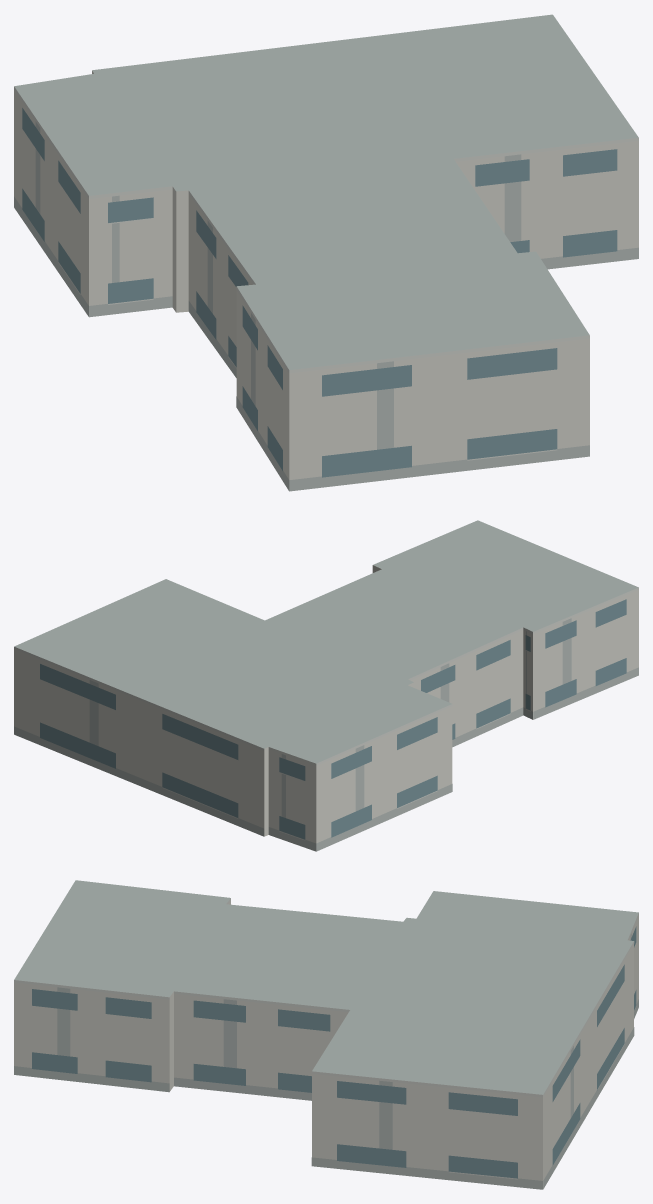
The model's file is survey-upis-32740968.glb.
3 views of the same model, one above another, from view 1: azimuth 30°, elevation 25°; view 2: azimuth 150°, elevation 25°; view 3: azimuth 270°, elevation 25° (orthographic). The views are drawn at different scales.
Visible parts, largest first — view 1: survey-upis-32740968.tmp; view 2: survey-upis-32740968.tmp; view 3: survey-upis-32740968.tmp.
Boxes of the visible parts, x1=… form: survey-upis-32740968.tmp: x1=14, y1=14, x2=638, y2=491; survey-upis-32740968.tmp: x1=14, y1=520, x2=638, y2=851; survey-upis-32740968.tmp: x1=14, y1=880, x2=638, y2=1189.
Size of the model in its own units: 44.41 by 9.15 by 54.61.
